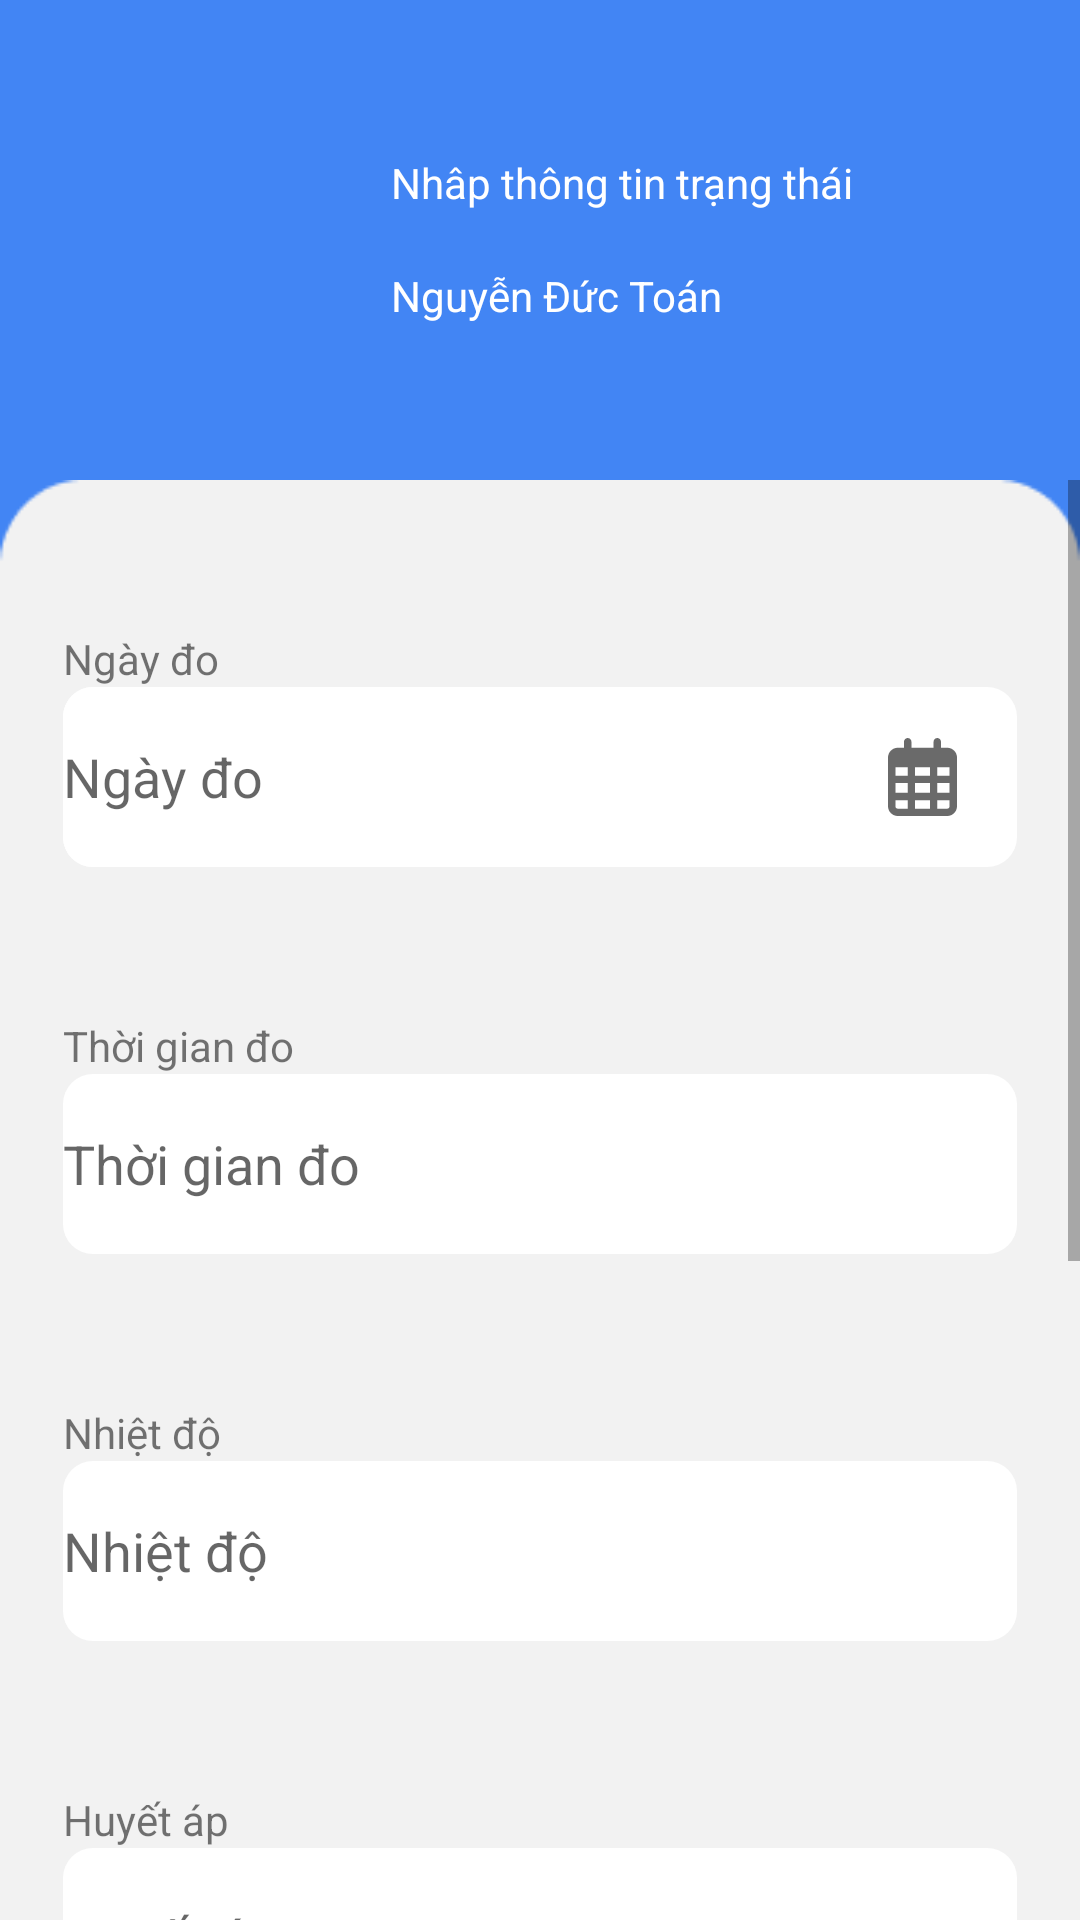

Where to tap for icons on this 1080px x 1920px app screen, as [x,y]:
calendar: [922,777]
